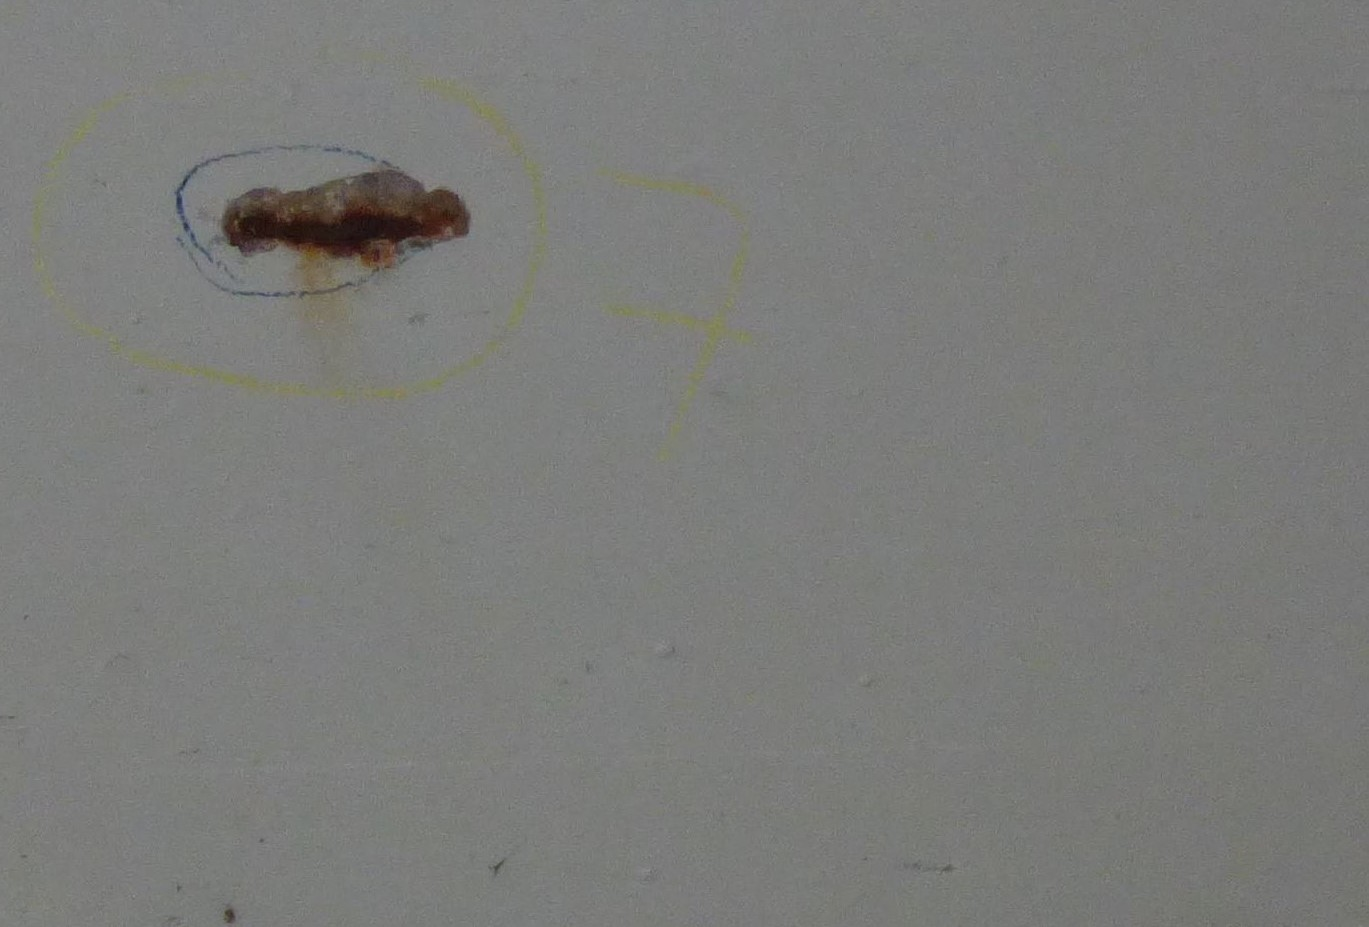Exposed reinforcement: (238, 214, 421, 243)
Spalling: (219, 169, 472, 269)
